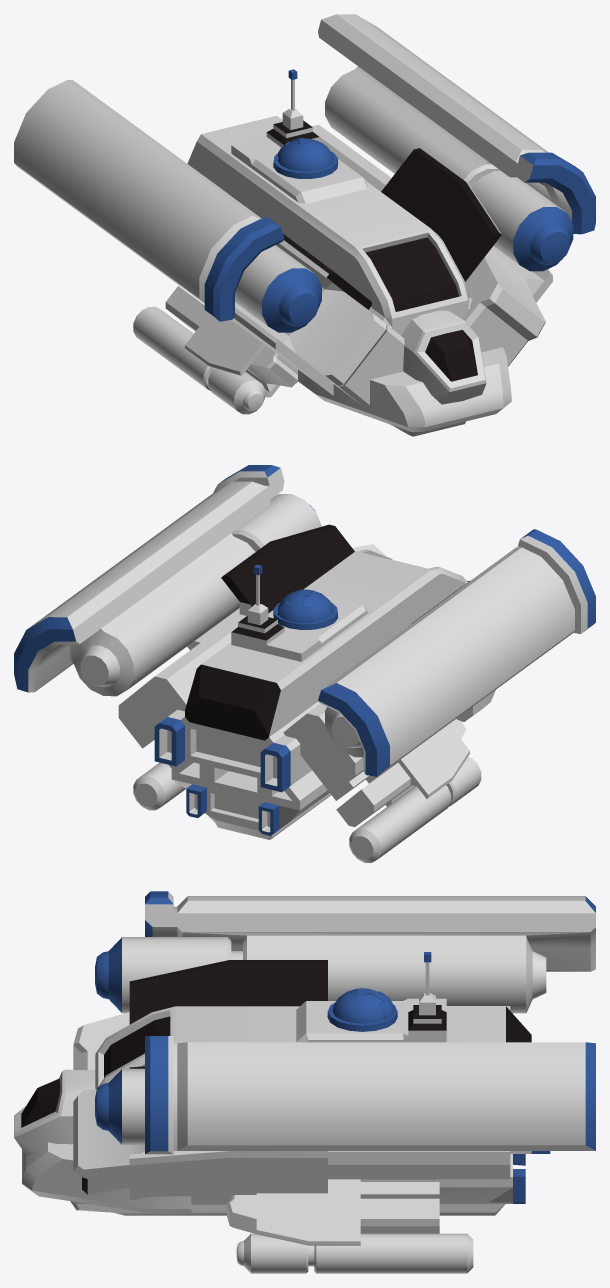
File: korabl.fbx
The picture shows the model from 3 angles, top to bottom: view 1: azimuth 30°, elevation 25°; view 2: azimuth 150°, elevation 25°; view 3: azimuth 270°, elevation 25°; orthographic projection. The views are drawn at different scales.
Parts seen in each view (by area): view 1: Quick_ship_4_1:Mesh; view 2: Quick_ship_4_1:Mesh; view 3: Quick_ship_4_1:Mesh.
Part boxes in pixels (box(x1,y1,x2,y2)): Quick_ship_4_1:Mesh: box(14, 14, 595, 436); Quick_ship_4_1:Mesh: box(14, 465, 595, 862); Quick_ship_4_1:Mesh: box(14, 891, 595, 1273).
Size of the model in its own units: 57.95 by 36.51 by 71.06.
